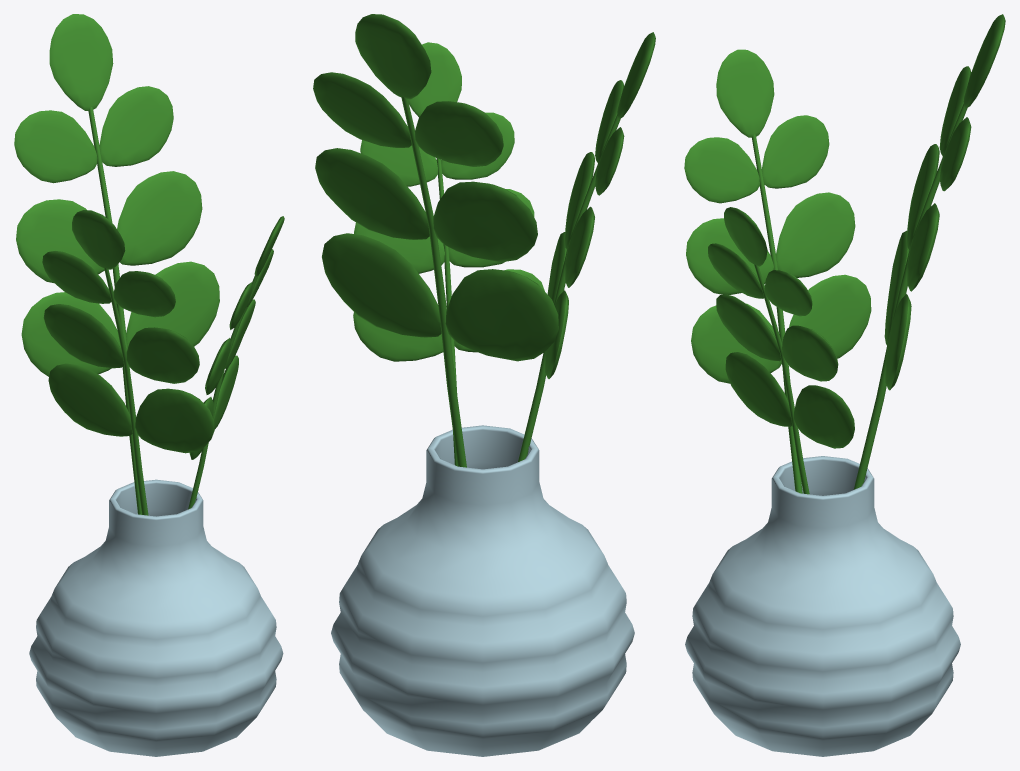
Rendered from Plant_22.glb.
The picture shows the model from 3 angles, left to right: view 1: azimuth 30°, elevation 25°; view 2: azimuth 150°, elevation 25°; view 3: azimuth 270°, elevation 25°; orthographic projection. The views are drawn at different scales.
Parts seen in each view (by area): view 1: Plant_22; view 2: Plant_22; view 3: Plant_22.
Part boxes in pixels (x1,y1,x2,y2): Plant_22: [14, 14, 284, 756]; Plant_22: [313, 14, 655, 756]; Plant_22: [684, 14, 1005, 756].
Bounding box in the file's own units: 0.4545 × 1.26 × 0.5225.
Materials: 1 (1 with a texture image).
